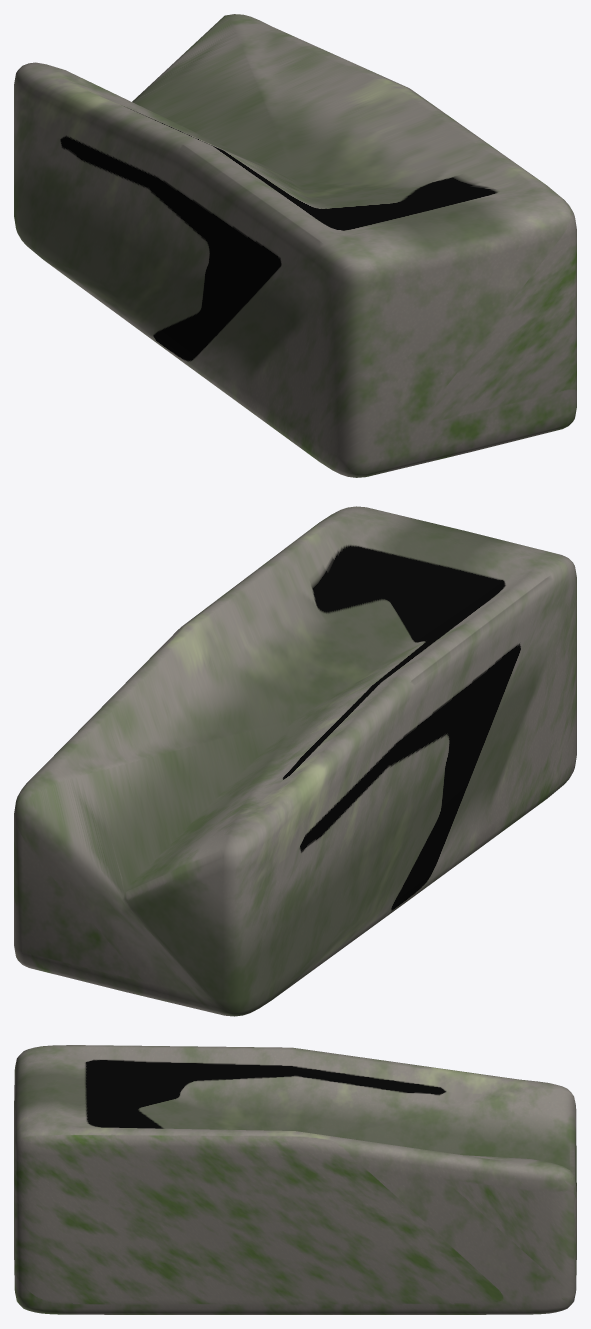
The model's file is SM_Camp_DrainSpout.fbx.
3 renders of one model, top to bottom at view 1: azimuth 30°, elevation 25°; view 2: azimuth 150°, elevation 25°; view 3: azimuth 270°, elevation 25°, orthographic. The views are drawn at different scales.
Parts seen in each view (by area): view 1: SM_Camp_DrainSpout; view 2: SM_Camp_DrainSpout; view 3: SM_Camp_DrainSpout.
Boxes of the visible parts, x1,y1,x2,y2 form: SM_Camp_DrainSpout: [14, 14, 576, 477]; SM_Camp_DrainSpout: [14, 506, 576, 1016]; SM_Camp_DrainSpout: [14, 1045, 576, 1314].
Size of the model in its own units: 21.98 by 54.95 by 19.96.
